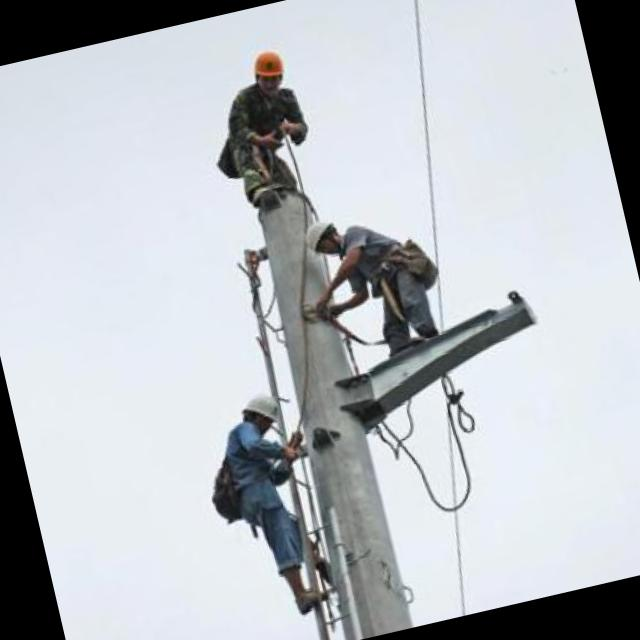helmet: (232, 383, 282, 438), (298, 210, 349, 260), (246, 44, 292, 98)
